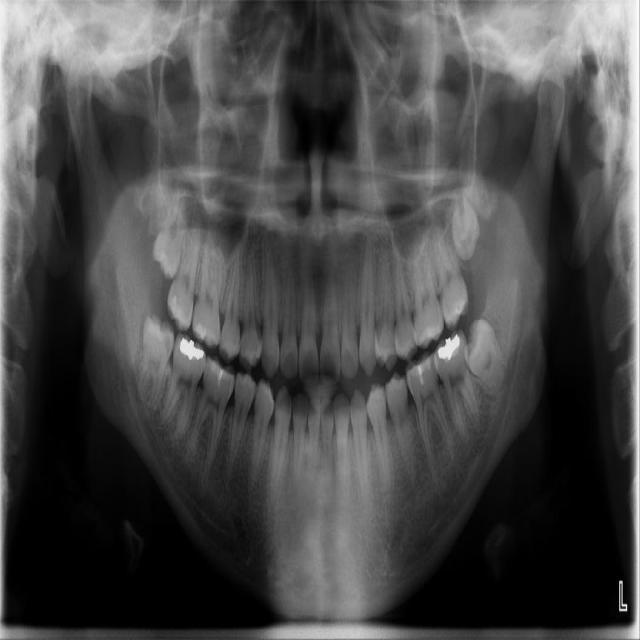3M ESPE Implant: (149, 171, 191, 281)
52: (160, 329, 216, 389), (191, 351, 244, 409), (403, 350, 443, 405), (433, 329, 470, 387), (190, 299, 222, 351), (166, 275, 195, 332)
73: (608, 571, 620, 589)
BioHorizons Implant: (427, 206, 473, 331)
BioLife Implant: (451, 183, 480, 259)
Biomet 3i Implant: (452, 315, 518, 399)
Blue Sky Bio Implant: (429, 327, 484, 444)
Caries: (164, 197, 206, 334)
Implant: (157, 330, 210, 442)
Keystone Dental Implant: (136, 312, 176, 412)
